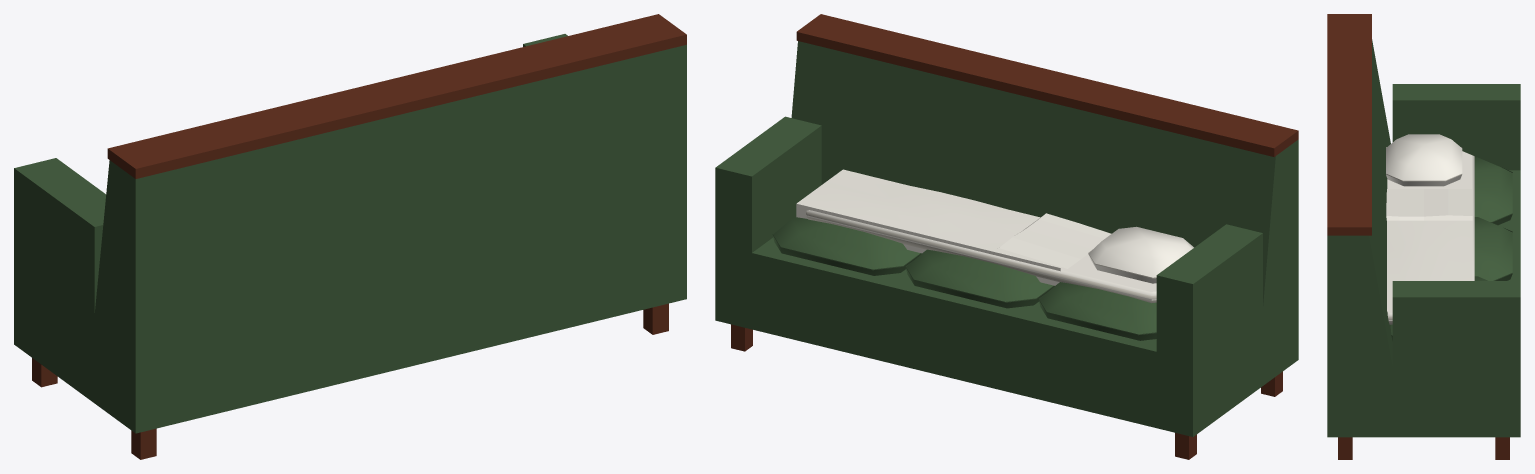
3 views of the same model, side by side, from view 1: azimuth 30°, elevation 25°; view 2: azimuth 150°, elevation 25°; view 3: azimuth 270°, elevation 25° (orthographic). The views are drawn at different scales.
Visible parts, largest first — view 1: parametric-variant-sofa-1st-f1905542a55b66fd7acd; view 2: parametric-variant-sofa-1st-f1905542a55b66fd7acd; view 3: parametric-variant-sofa-1st-f1905542a55b66fd7acd.
Part boxes in pixels (x1,y1,x2,y2): parametric-variant-sofa-1st-f1905542a55b66fd7acd: (14, 14, 686, 459); parametric-variant-sofa-1st-f1905542a55b66fd7acd: (715, 14, 1298, 459); parametric-variant-sofa-1st-f1905542a55b66fd7acd: (1327, 14, 1520, 459).
Bounding box in the file's own units: 1.7 × 0.88 × 0.65.
